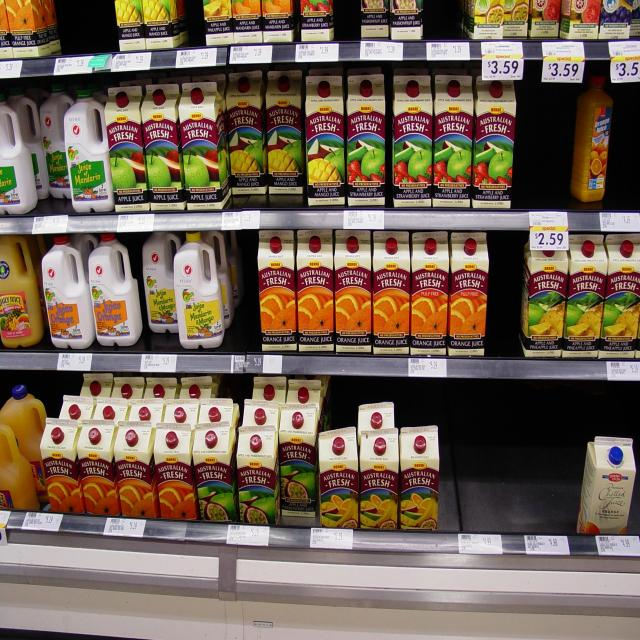empty_space: (445, 394, 575, 542), (521, 88, 564, 204), (487, 235, 521, 351), (612, 95, 639, 217), (237, 241, 263, 349), (63, 1, 110, 56), (424, 0, 470, 42)
